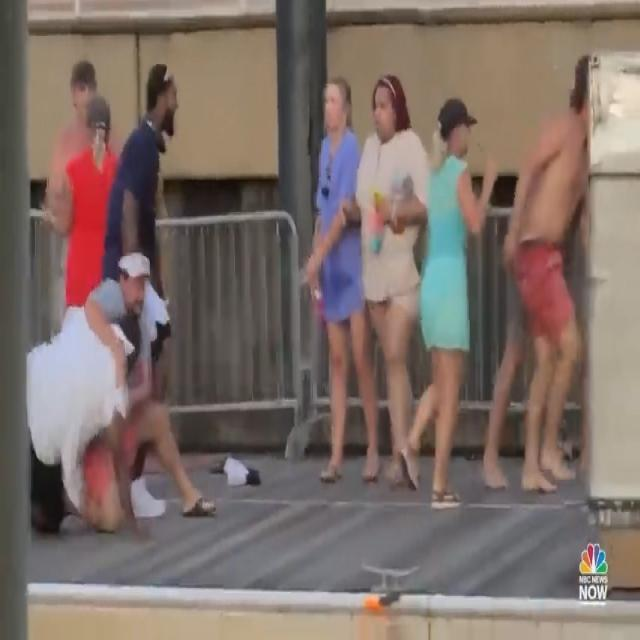fight: (29, 249, 220, 534)
non-fight: (297, 49, 591, 512)
